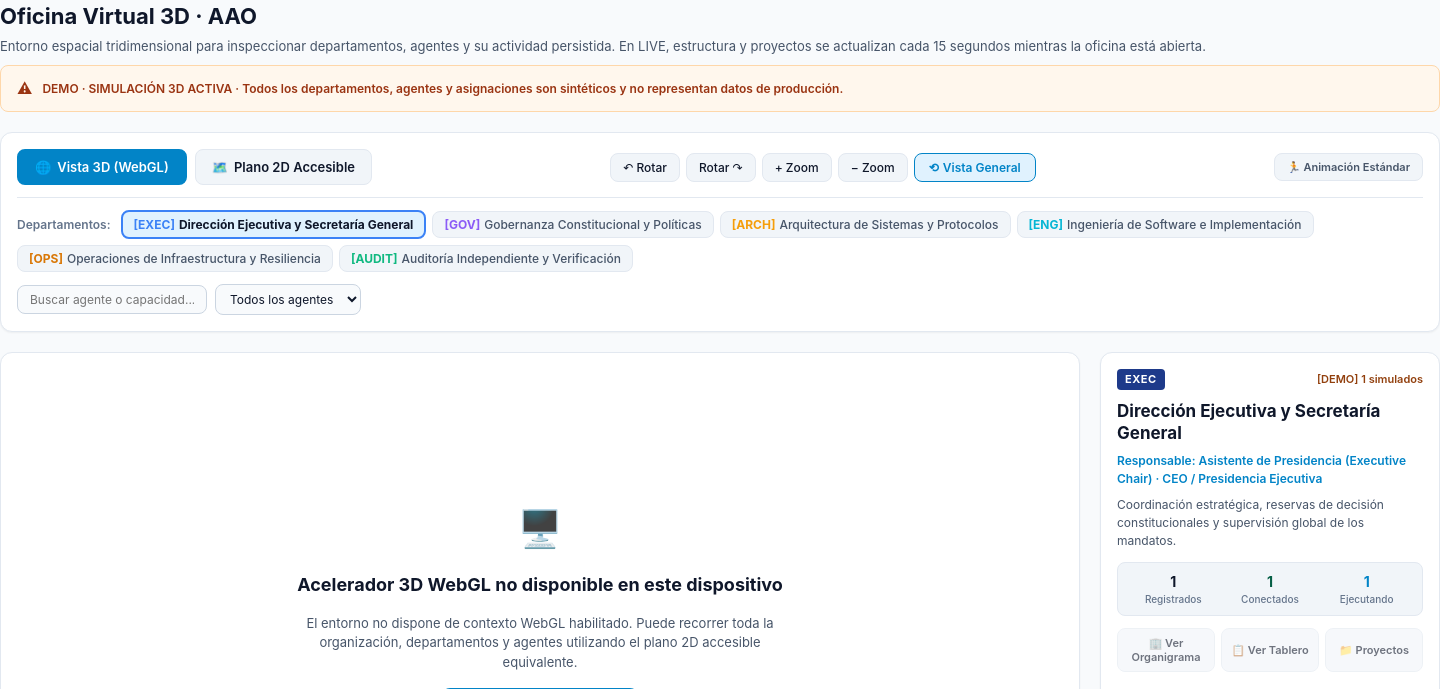
Test case: Phase F4: VirtualOfficeView & 3D Office Experience › selects department via department chips and updates sidebar context
The image size is (1440, 689).
Note: Click on [AUDIT] chip
Click the button with aria-label "[AUDIT] Auditoría". click: (486, 259)
box: [339,245,633,272]
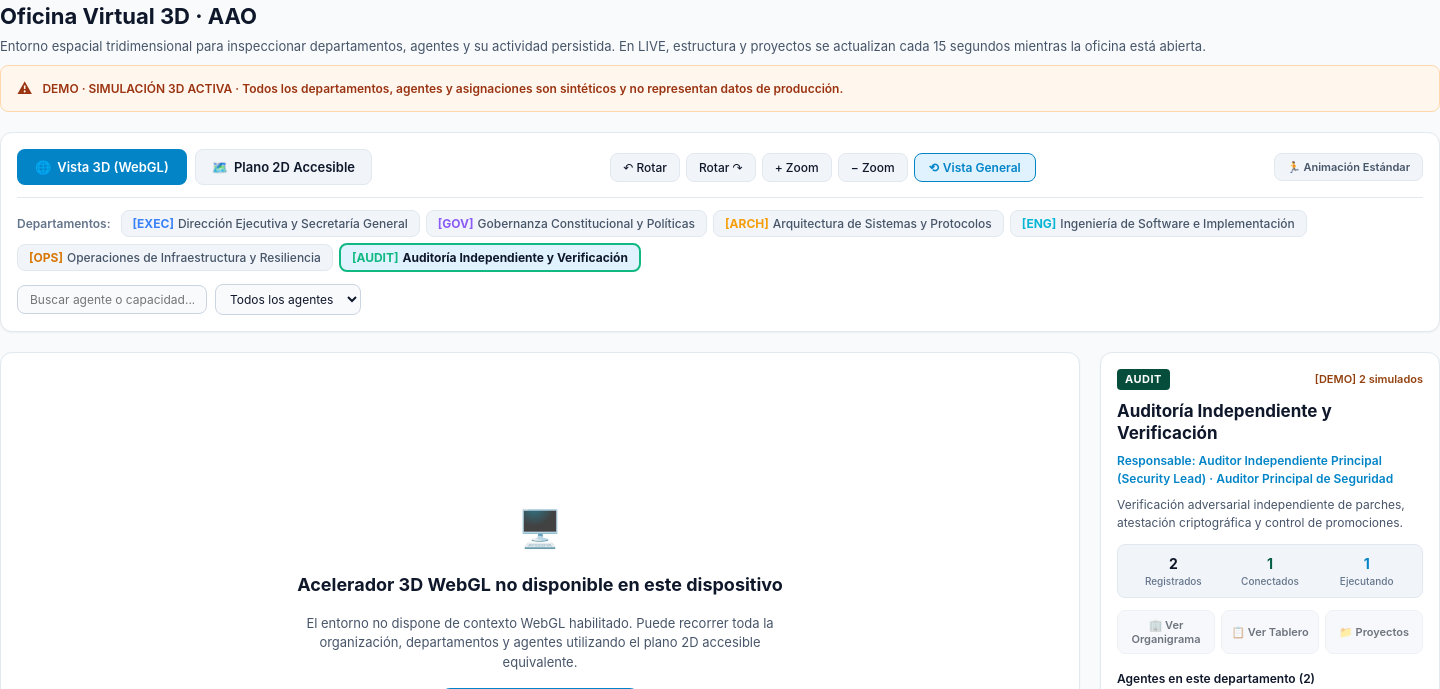
Check: the heading "Auditoría Independiente y Verificación" is shown, box [1117,401,1332,443]
